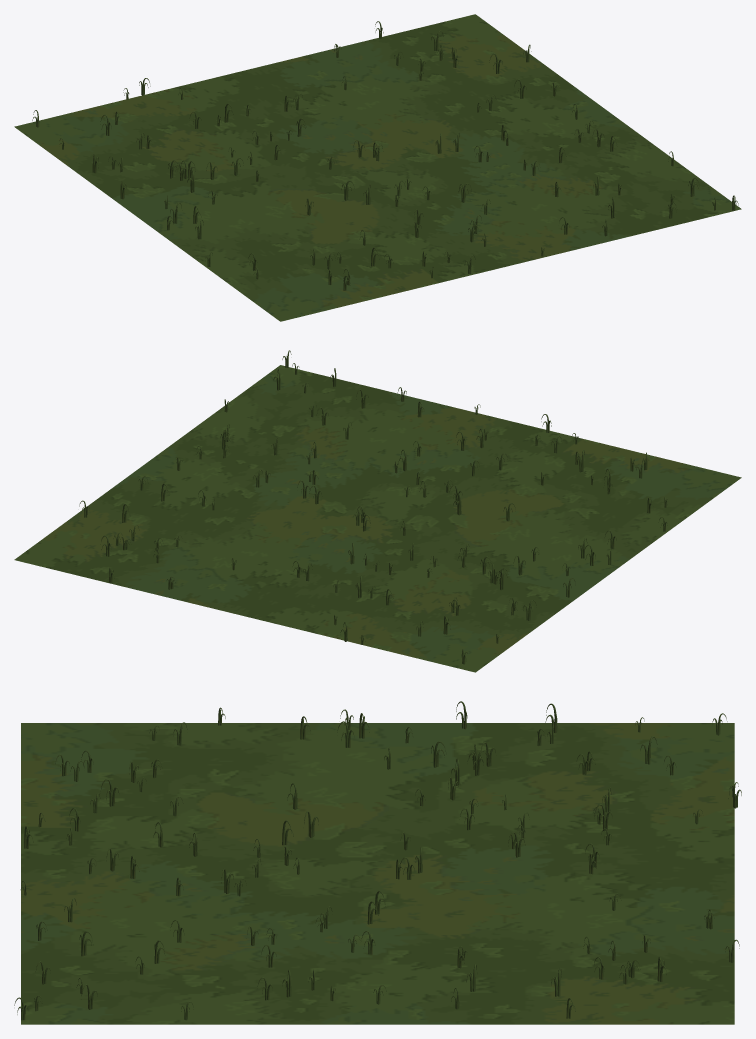
3 renders of one model, top to bottom at view 1: azimuth 30°, elevation 25°; view 2: azimuth 150°, elevation 25°; view 3: azimuth 270°, elevation 25°, orthographic. The views are drawn at different scales.
Parts seen in each view (by area): view 1: Plane.001; view 2: Plane.001; view 3: Plane.001.
Part boxes in pixels (box(x1,y1,x2,y2)): Plane.001: box(14, 14, 741, 321); Plane.001: box(14, 350, 741, 672); Plane.001: box(14, 701, 741, 1024).
Bounding box in the file's own units: 20.02 × 0.8278 × 20.4.
1 material, 1 textured.
